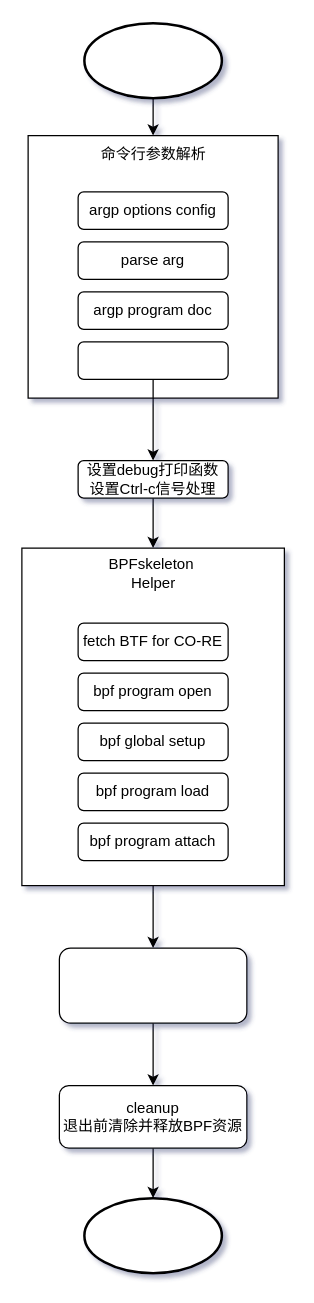
The diagram is 314 pixels wide and 1303 high, and some of its shapes have lost their labels. Each missing label, with the box of its shape:
args doc: (77, 341, 228, 379)
BPF userspace program: (82, 21, 222, 99)
while 0 or when exit signal 主要处理过程，获取和统计BPF内核程序的数据: (58, 947, 247, 1023)
结束: (82, 1196, 222, 1274)
